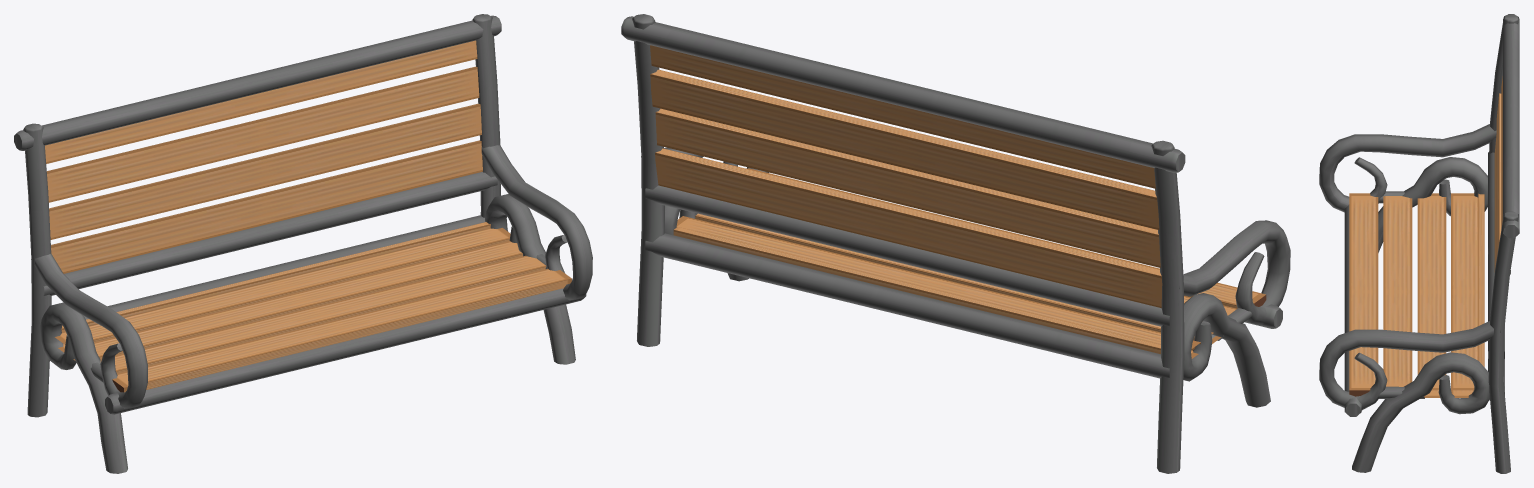
Rendered from Bin (1).fbx.
3 views of the same model, side by side, from view 1: azimuth 30°, elevation 25°; view 2: azimuth 150°, elevation 25°; view 3: azimuth 270°, elevation 25° (orthographic). The views are drawn at different scales.
Visible parts, largest first — view 1: Bin (1); view 2: Bin (1); view 3: Bin (1).
Boxes of the visible parts, x1,y1,x2,y2 form: Bin (1): [14, 14, 592, 473]; Bin (1): [621, 14, 1290, 473]; Bin (1): [1319, 14, 1519, 473].
Size of the model in its own units: 1.17 by 0.6641 by 0.4717.
